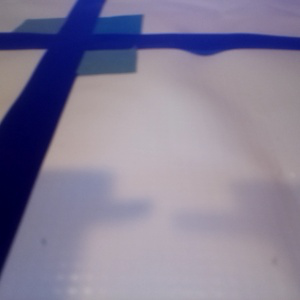bottom_right: (47, 34, 136, 75)
top_left: (13, 18, 92, 49)
top_right: (68, 14, 143, 49)
